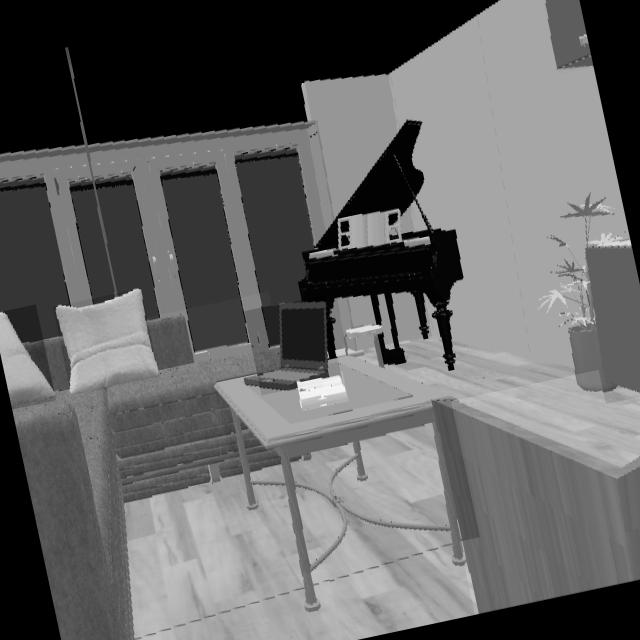book: (297, 375, 347, 410)
cabinet: (585, 241, 640, 393), (547, 0, 592, 69)
laptop: (258, 304, 331, 389)
pillow: (55, 288, 159, 394), (0, 314, 55, 409)
sofa: (12, 316, 282, 640), (436, 404, 640, 612)
table: (216, 362, 450, 573)
